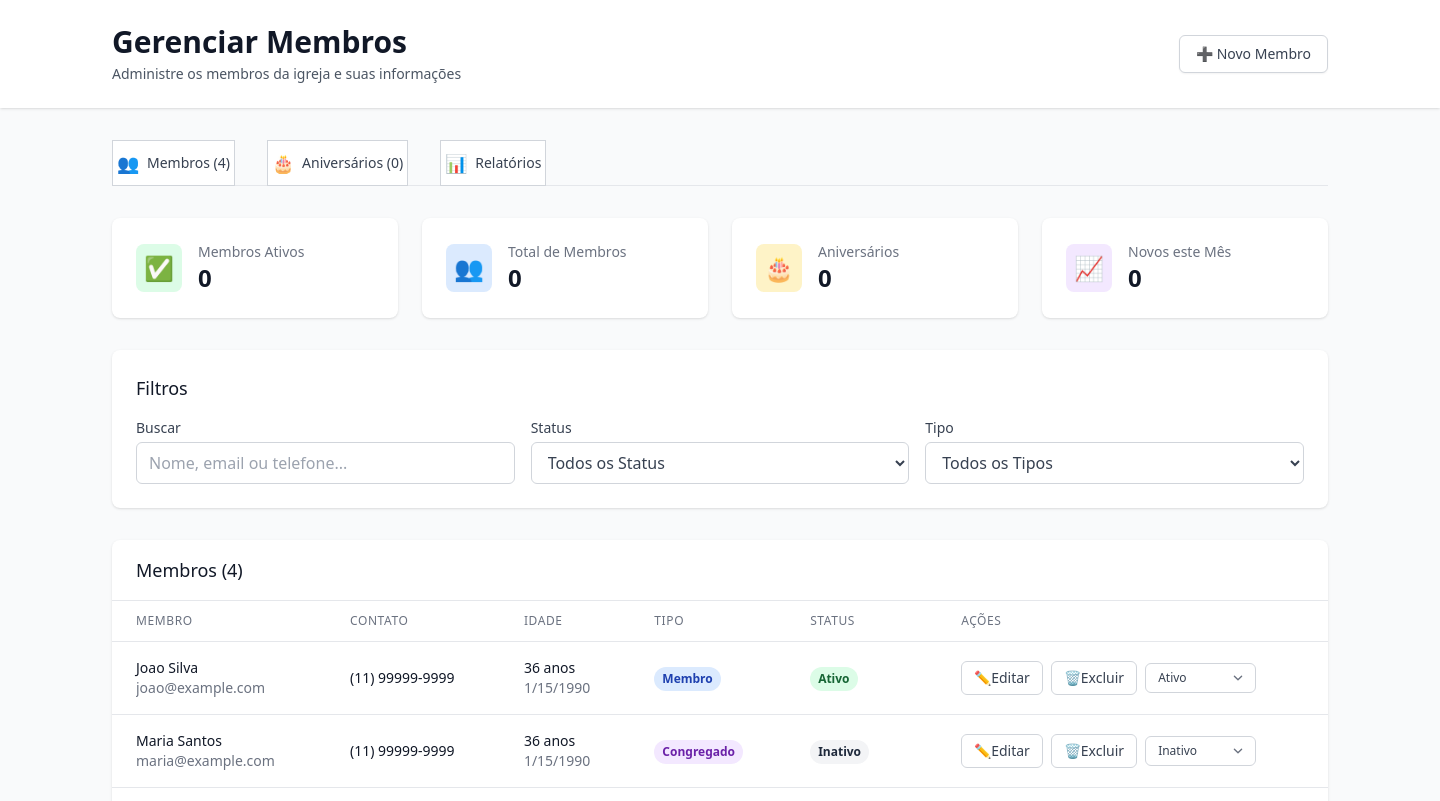
Scenario: MembersManagementPage › Filtering › should filter members by status
Expected: the text "Joao Silva" is shown, x1=136 y1=658 x2=198 y2=677
Select "Ativo" in the dropdown labelled "Status" at (720, 463), box x1=531 y1=442 x2=909 y2=484
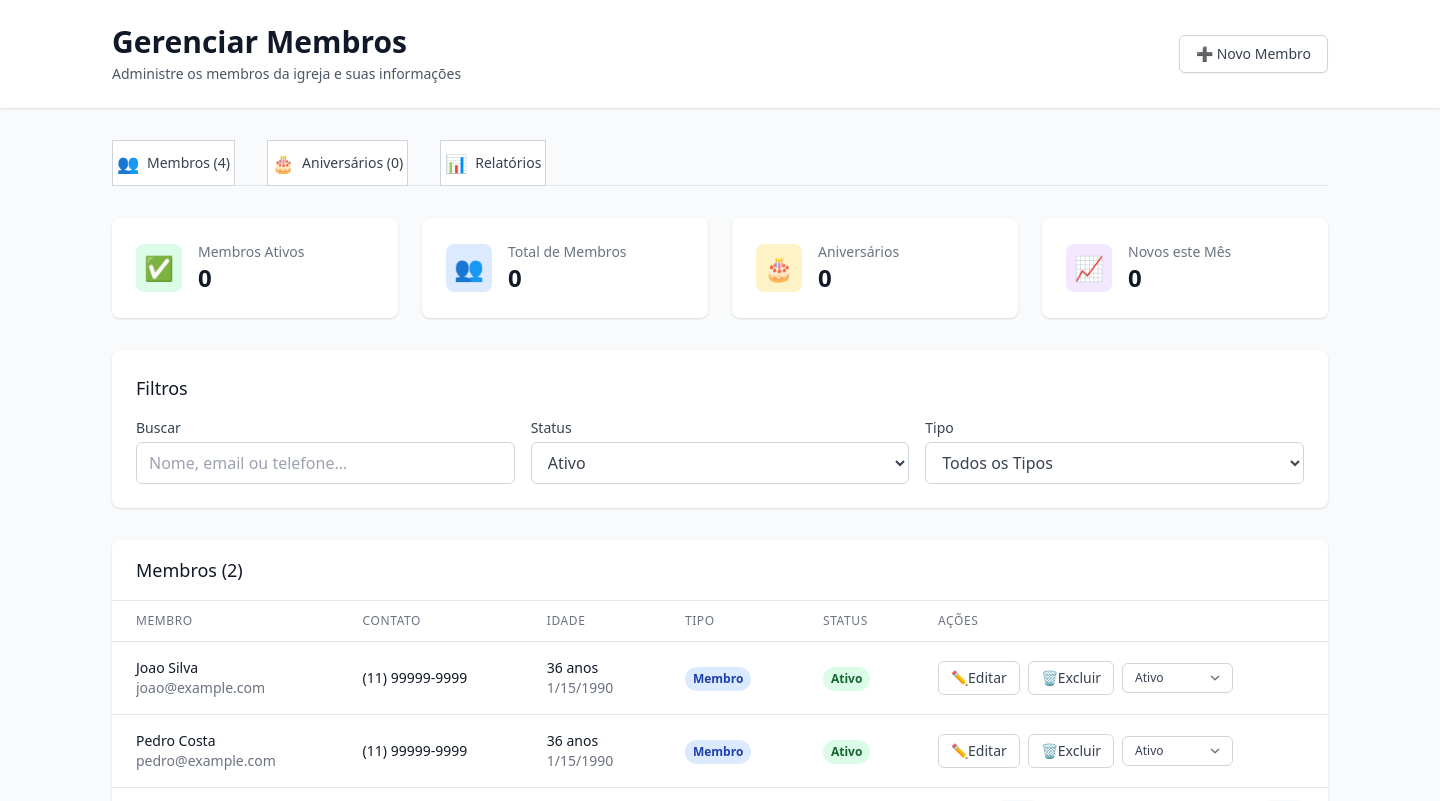
Expected: the text "Joao Silva" is shown, x1=136 y1=658 x2=198 y2=677
Now the text "Maria Santos" is gone
